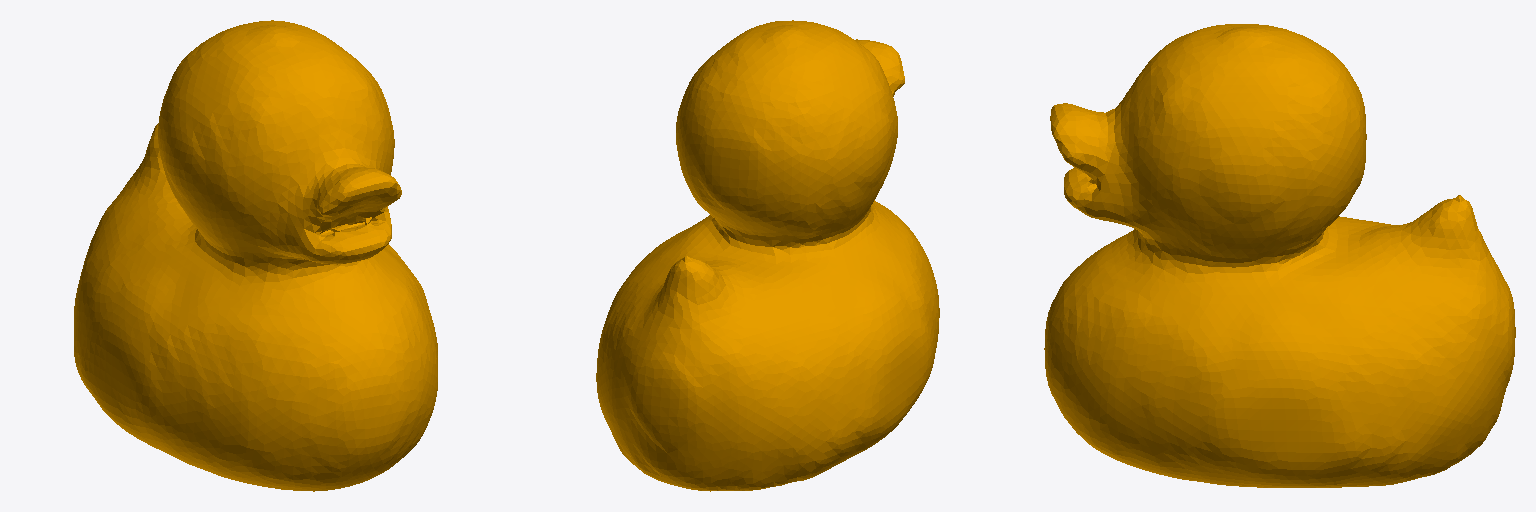
robot.urdf — duck:
<?xml version="1.0"?>
<robot name="duck"><link name="duck">
  <visual><geometry><mesh filename="duck_visual.obj"/></geometry></visual>
  <collision><geometry><mesh filename="duck_col.obj"/></geometry></collision>
</link></robot>

--- Facts derived from the render (not from the file) ---
The picture shows the robot from 3 angles, left to right: view 1: azimuth 30°, elevation 25°; view 2: azimuth 150°, elevation 25°; view 3: azimuth 270°, elevation 25°; orthographic projection.
Model duck with 1 links and 0 joints (none), rooted at duck, posed every joint at zero.
Visible links, largest first — view 1: duck; view 2: duck; view 3: duck.
Boxes of the visible links, x1,y1,x2,y2 form: duck: (74, 20, 437, 491); duck: (596, 20, 939, 491); duck: (1044, 24, 1515, 487).
Bounding box of the posed robot: 0.0676 × 0.095 × 0.0919 m (x, y, z).
1 mesh visuals loaded from 1 distinct referenced files (1 OBJ).
